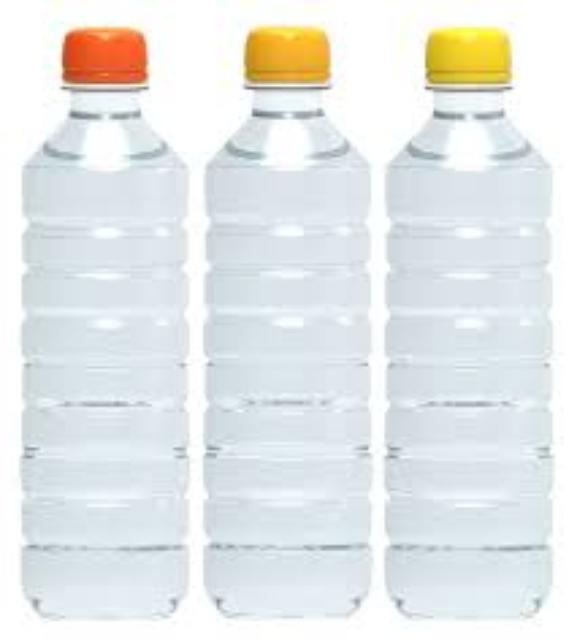plastic: (19, 24, 182, 610), (385, 24, 548, 610), (203, 24, 363, 610)
